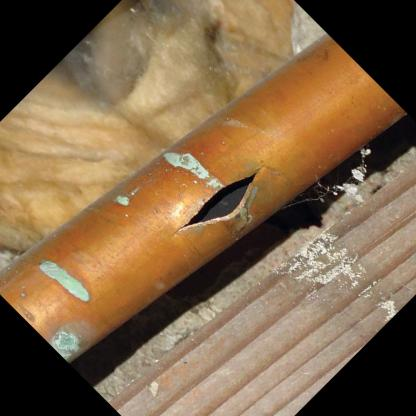burst: (170, 155, 265, 261)
